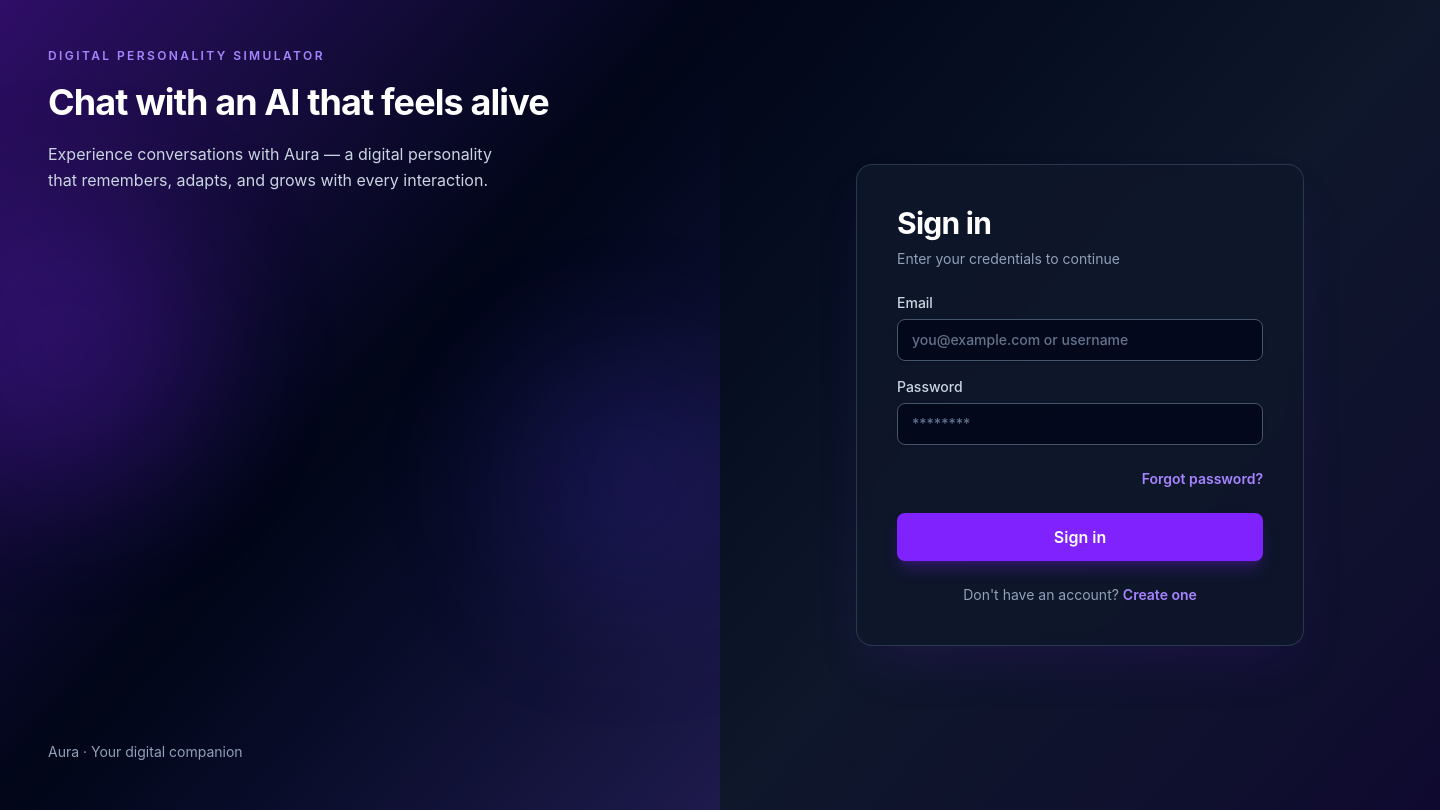
Test case: Login › shows validation when fields are empty
This screenshot has width=1440, height=810.
Click the button "Sign in" at [1080, 537], box [897, 513, 1263, 561]
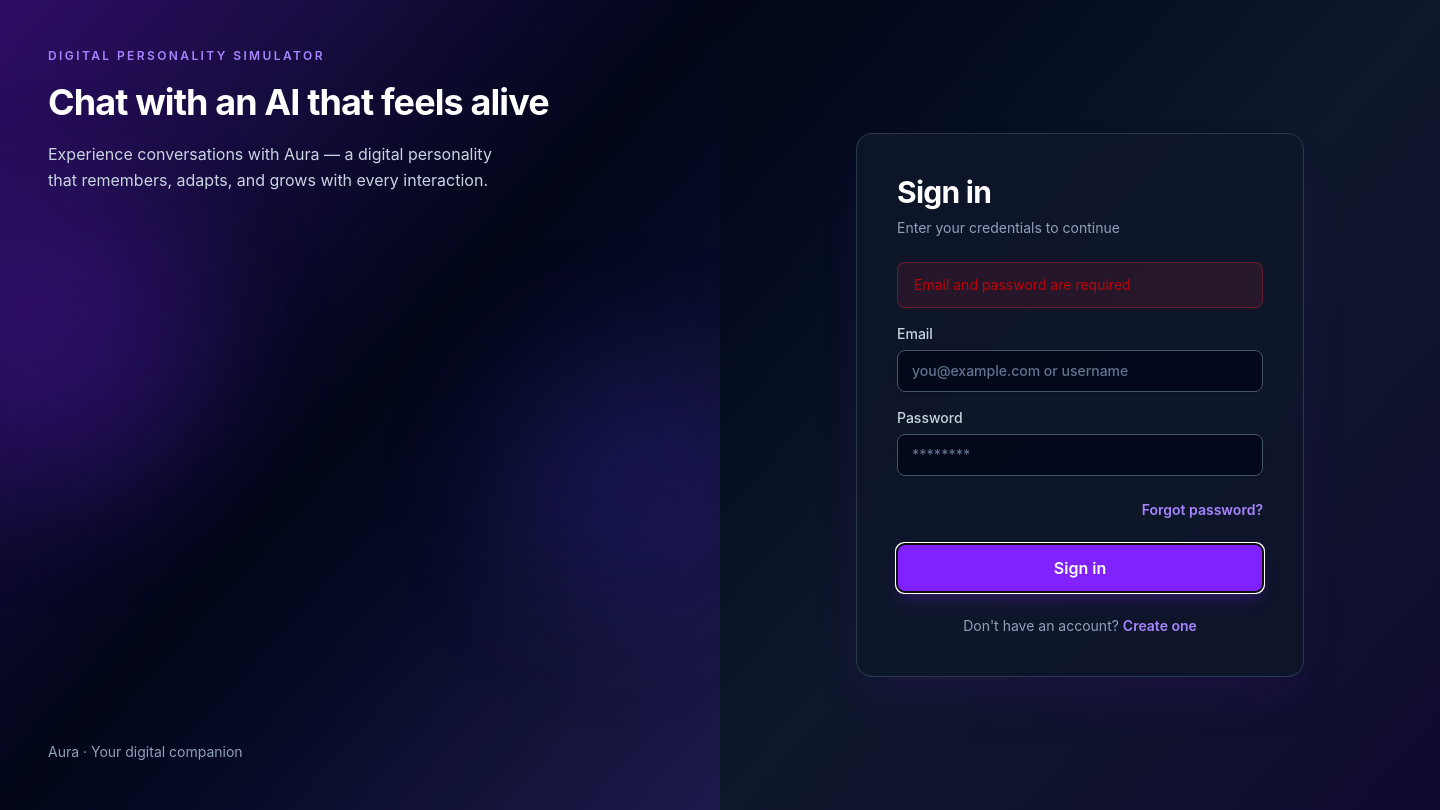
Now the message shows "required", box [914, 276, 1131, 293]
